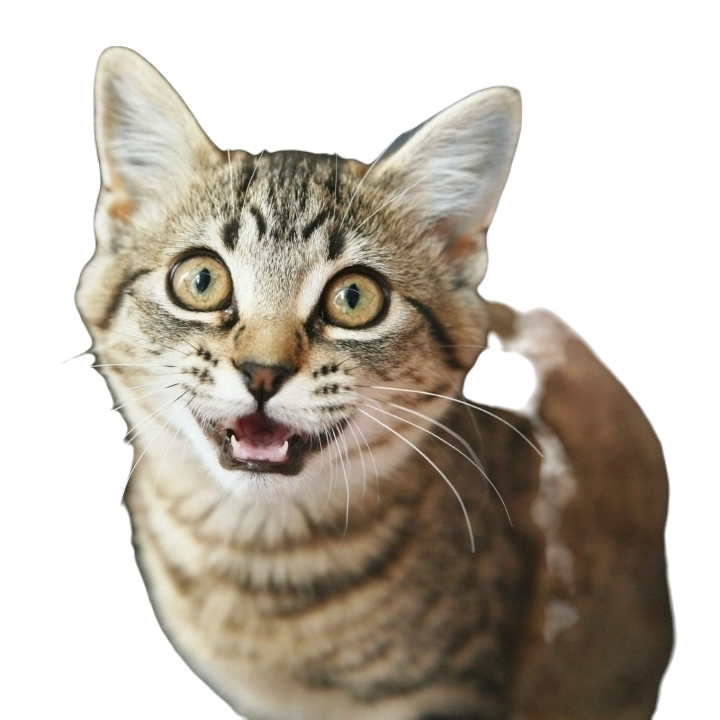Cat: (73, 41, 684, 719)
